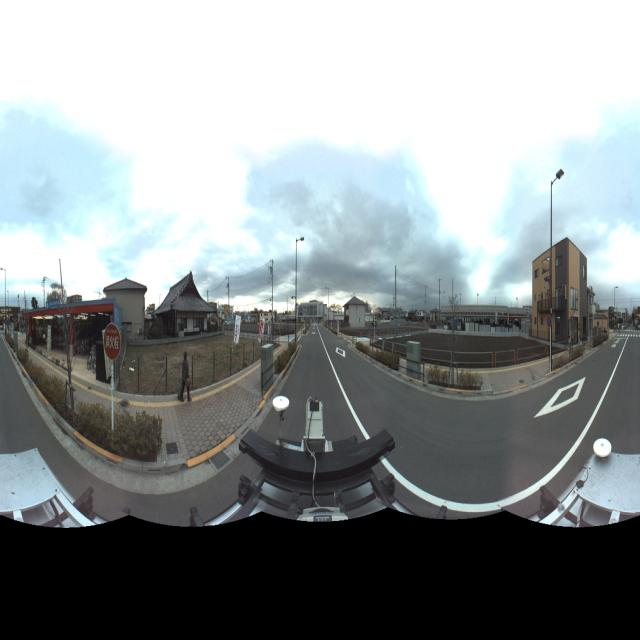b_1: (529, 234, 591, 357), (153, 268, 214, 347), (104, 270, 148, 341), (341, 290, 370, 340)
